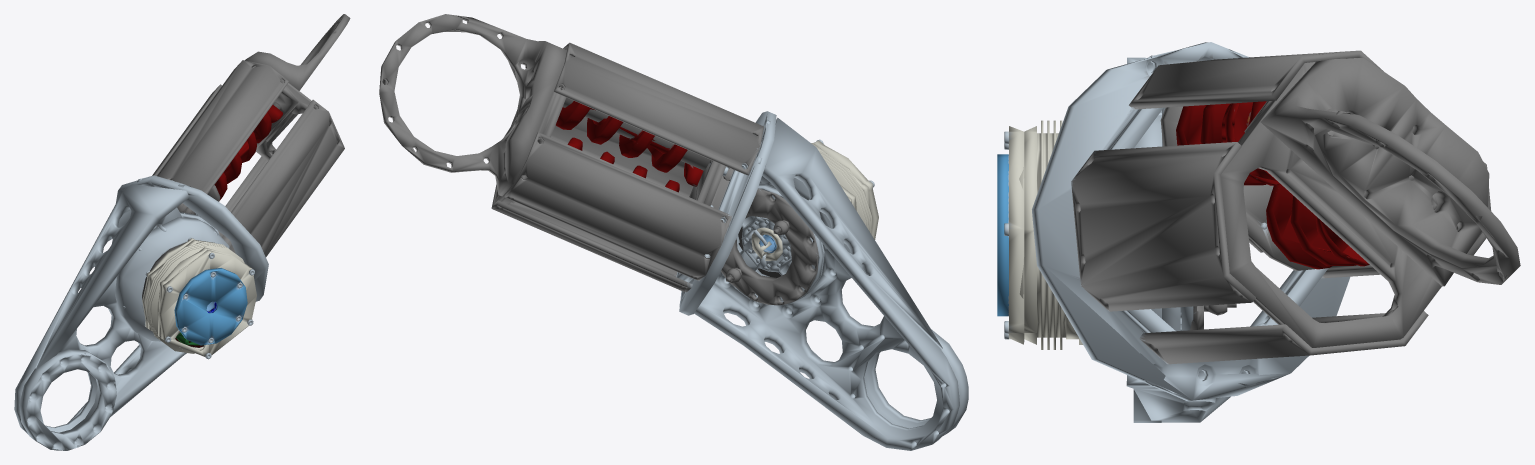
Rendered from legr_hip3_joint.obj.
3 views of the same model, side by side, from view 1: azimuth 30°, elevation 25°; view 2: azimuth 150°, elevation 25°; view 3: azimuth 270°, elevation 25° (orthographic). The views are drawn at different scales.
Bounding box in the file's own units: 0.3942 × 0.2916 × 0.2243.
Materials: 1 (1 with a texture image).
